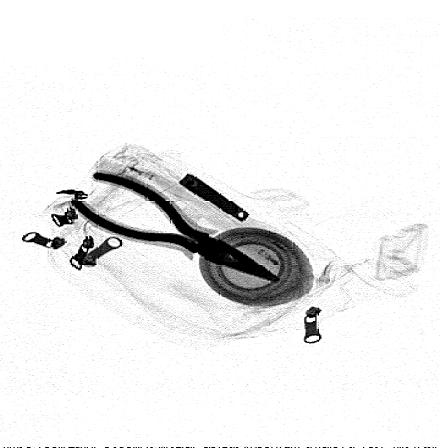Pliers: (66, 171, 281, 282)
